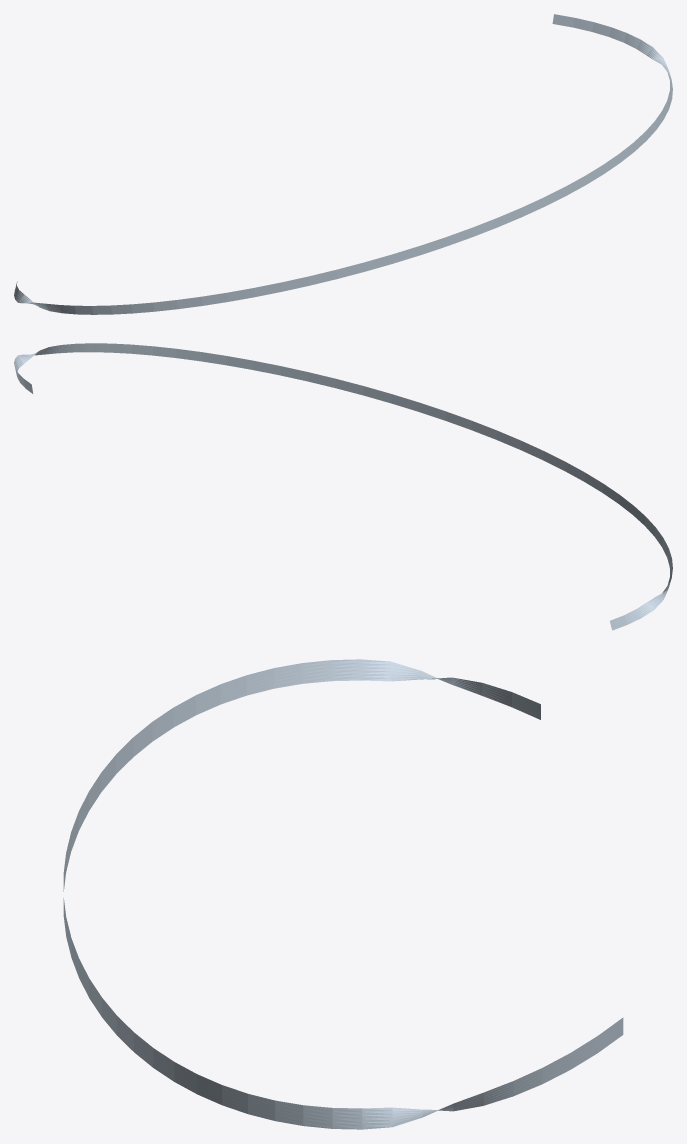
File: 2085_ElectricRebirth_Overall_OwnRebirthFlow_4.fbx
3 views of the same model, one above another, from view 1: azimuth 30°, elevation 25°; view 2: azimuth 150°, elevation 25°; view 3: azimuth 270°, elevation 25° (orthographic). The views are drawn at different scales.
Visible parts, largest first — view 1: PART_Electro_OwnRebirthFlow_4; view 2: PART_Electro_OwnRebirthFlow_4; view 3: PART_Electro_OwnRebirthFlow_4.
Boxes of the visible parts, x1=… form: PART_Electro_OwnRebirthFlow_4: x1=14, y1=14, x2=672, y2=314; PART_Electro_OwnRebirthFlow_4: x1=14, y1=343, x2=672, y2=630; PART_Electro_OwnRebirthFlow_4: x1=63, y1=659, x2=623, y2=1129.
Size of the model in its own units: 223 by 41.52 by 84.49.
